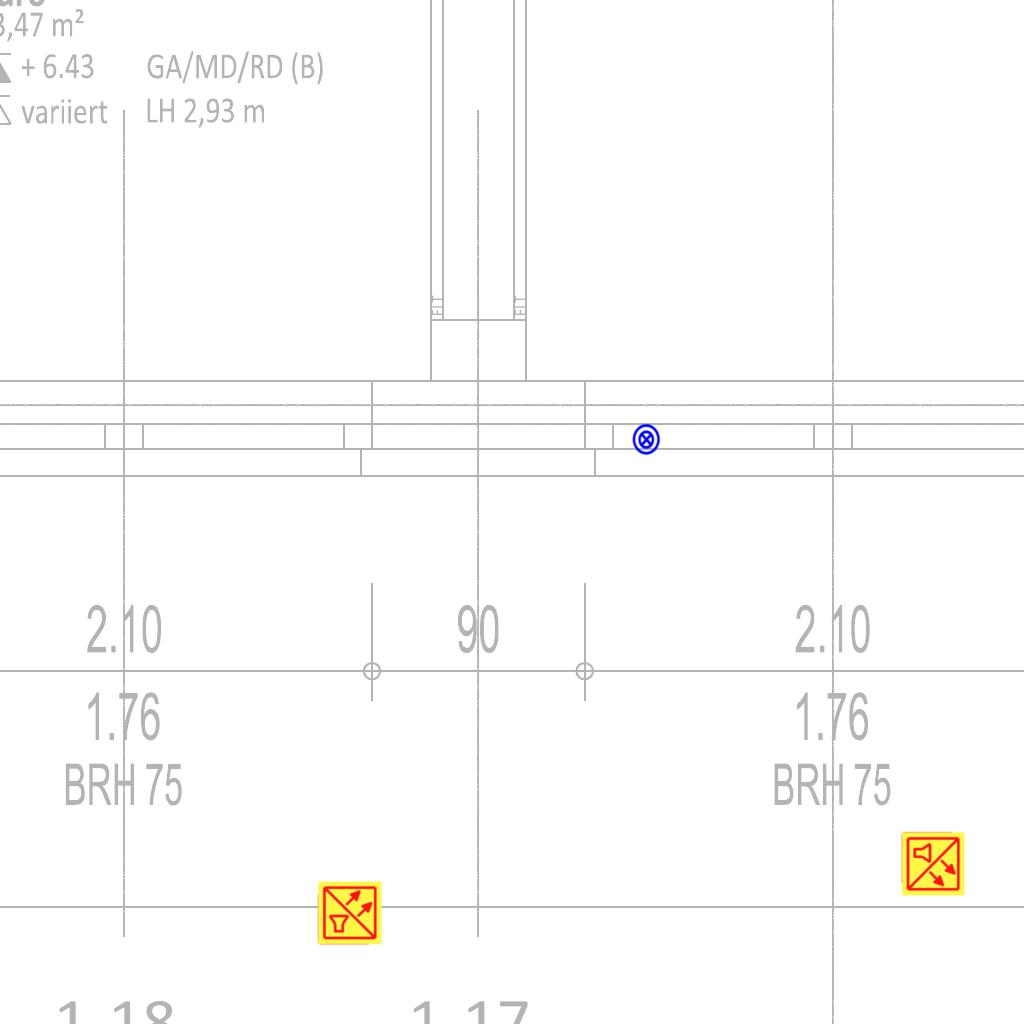OKW_Multisensormelder_(Kombination_optischer_Rauch-Kahlenmonoxid_Waerme-Melder): (900, 831, 966, 897), (317, 880, 383, 946)
Taster_beleuchtet: (630, 423, 663, 456)
